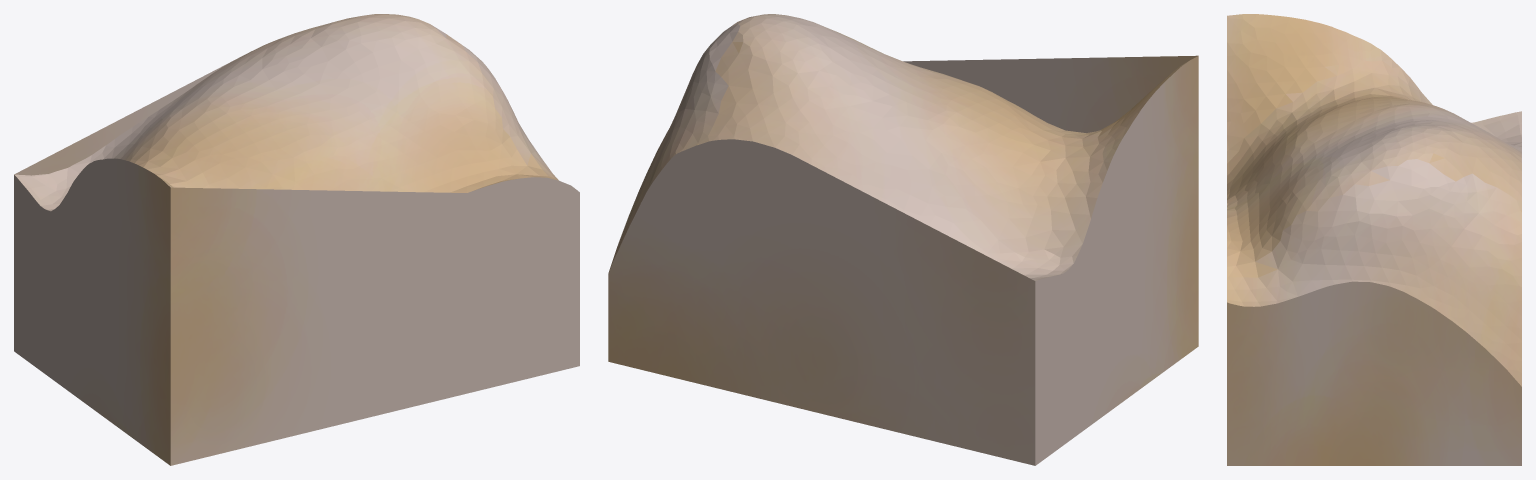
The model's file is DBC.fbx.
3 views of the same model, side by side, from view 1: azimuth 30°, elevation 25°; view 2: azimuth 150°, elevation 25°; view 3: azimuth 270°, elevation 25° (orthographic). The views are drawn at different scales.
Visible parts, largest first — view 1: DBCusp; view 2: DBCusp; view 3: DBCusp.
Boxes of the visible parts, left/top/right/bottom form: DBCusp: left=14, top=14, right=579, bottom=465; DBCusp: left=608, top=14, right=1198, bottom=465; DBCusp: left=1227, top=14, right=1521, bottom=465.
Bounding box in the file's own units: 54.54 × 37.96 × 36.12.
1 material, 1 textured.
